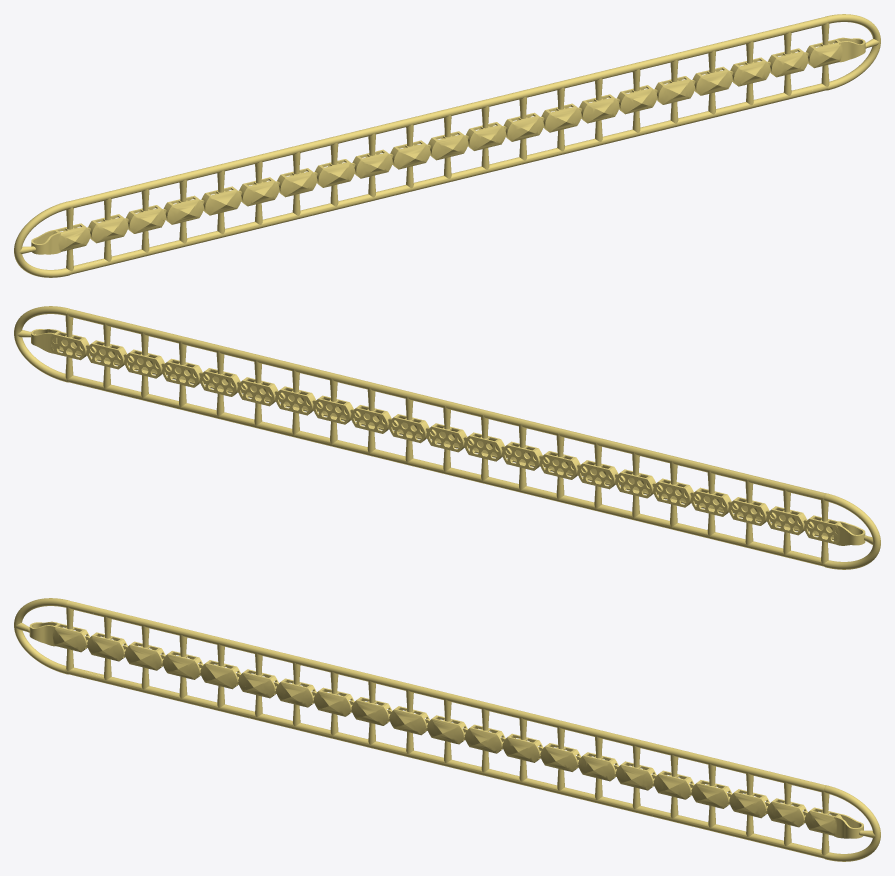
File: yzn5-133_a.glb
3 renders of one model, top to bottom at view 1: azimuth 30°, elevation 25°; view 2: azimuth 150°, elevation 25°; view 3: azimuth 330°, elevation 25°, orthographic.
Parts seen in each view (by area): view 1: Renderer Node; view 2: Renderer Node; view 3: Renderer Node.
Boxes of the visible parts, bbox=[...] form: Renderer Node: bbox=[14, 14, 880, 277]; Renderer Node: bbox=[14, 306, 880, 569]; Renderer Node: bbox=[14, 598, 880, 861].
Bounding box in the file's own units: 189 × 15.36 × 3.34.
